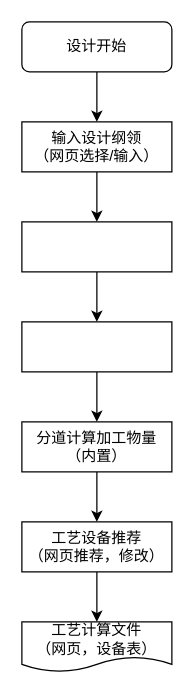
The diagram is 194 pixels wide and 694 high, and some of its shapes have lost their labels. Here are the shapes that lost their labels. From the top down, the centre of each, then its label:
point (96, 246): 按产品结构进行物量分解 （内置）
point (96, 346): 工艺设计原则 （网页选择）
